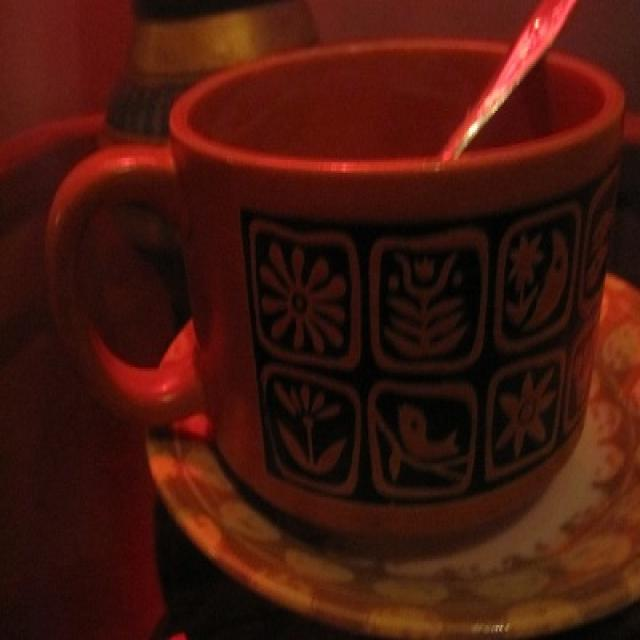Cup: (79, 50, 640, 545)
